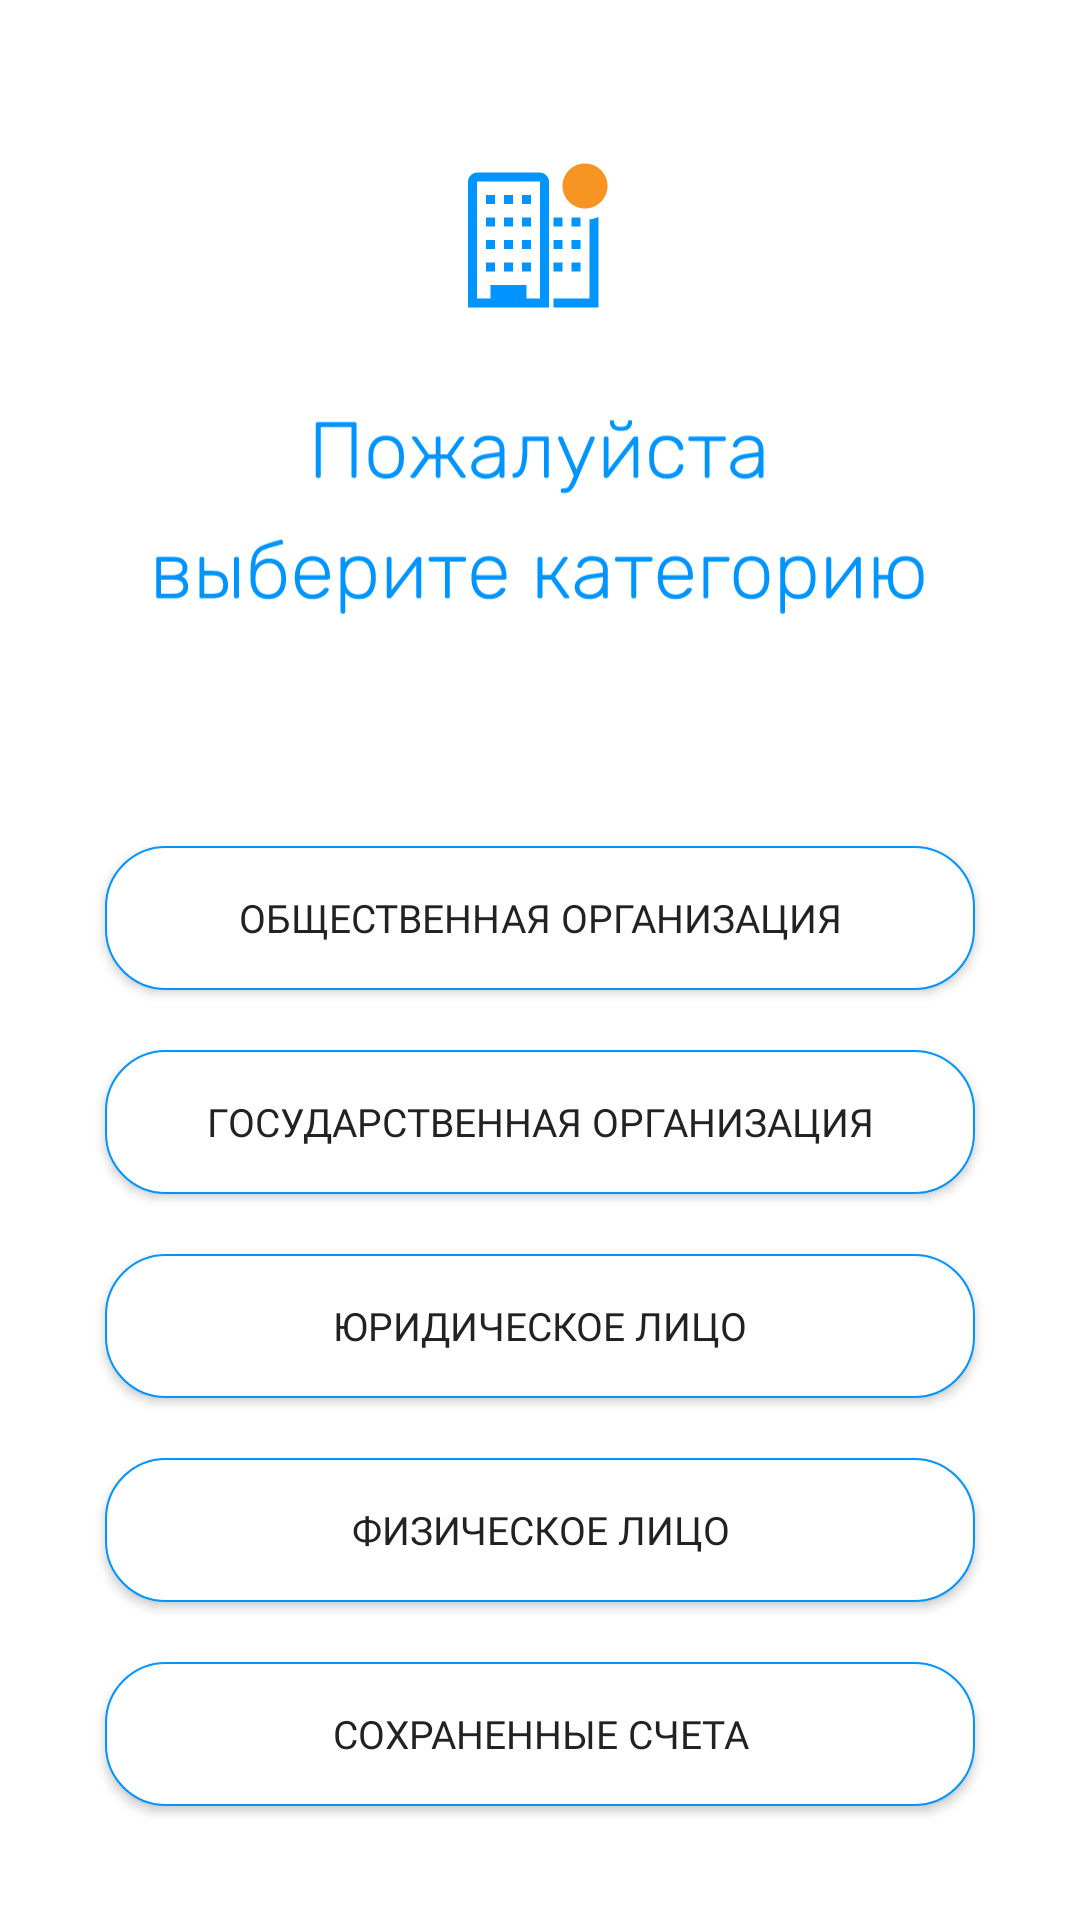

Named icons in this screenshot (1080×1920) and their bounding boxes, (x1, y1, x2, y2):
houses: (468, 163, 608, 308)
